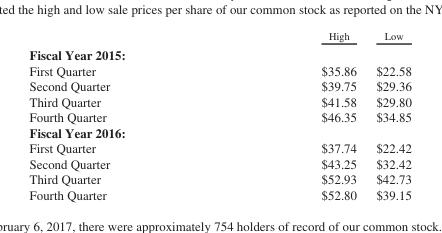table: (28, 29, 410, 201)
table column: (28, 29, 214, 201), (214, 29, 365, 201), (365, 29, 410, 201)
table column header: (28, 29, 410, 43)
table projected row header: (28, 43, 410, 62), (28, 124, 410, 140)
table row: (28, 43, 410, 62), (28, 62, 410, 78), (28, 93, 410, 109), (28, 124, 410, 140), (28, 155, 410, 171), (28, 78, 410, 93), (28, 109, 410, 124), (28, 140, 410, 155), (28, 171, 410, 186), (28, 186, 410, 201), (28, 29, 410, 43)
